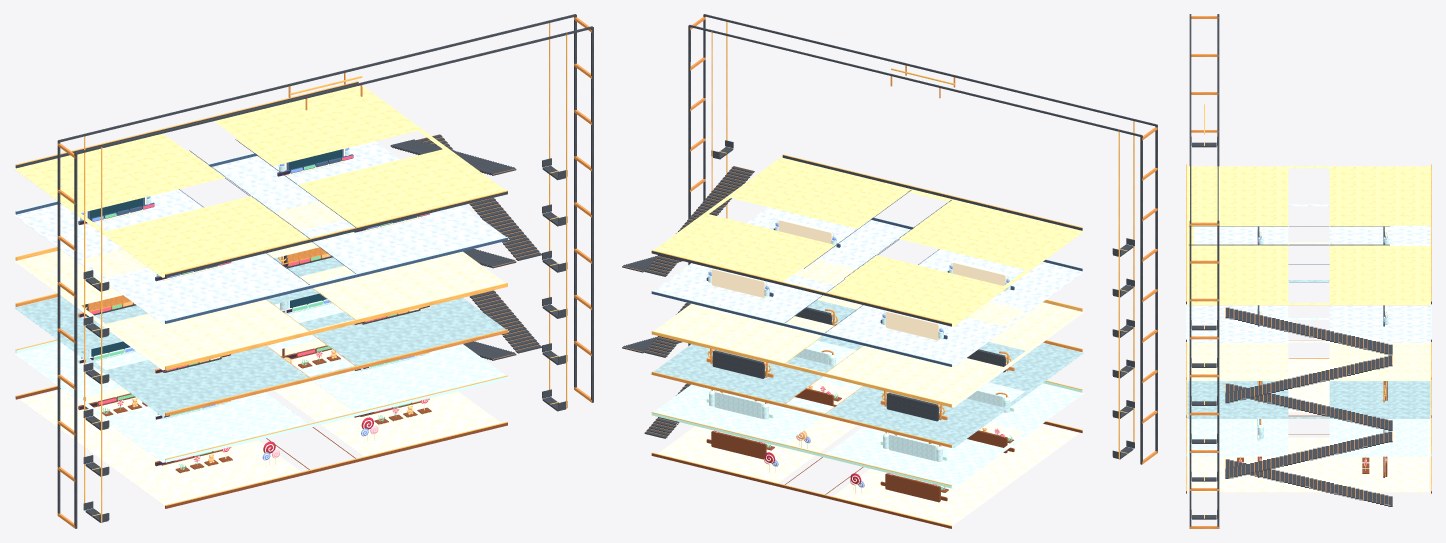
The model's file is Chocolate-River-Interiors.glb.
The picture shows the model from 3 angles, left to right: view 1: azimuth 30°, elevation 25°; view 2: azimuth 150°, elevation 25°; view 3: azimuth 270°, elevation 25°; orthographic projection. The views are drawn at different scales.
Bounding box in the file's own units: 93.88 × 65.27 × 47.05.
23 materials, 23 textured.
